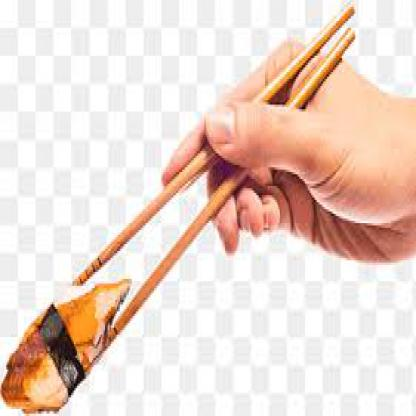chopstick: (99, 28, 357, 351), (73, 2, 358, 288)
